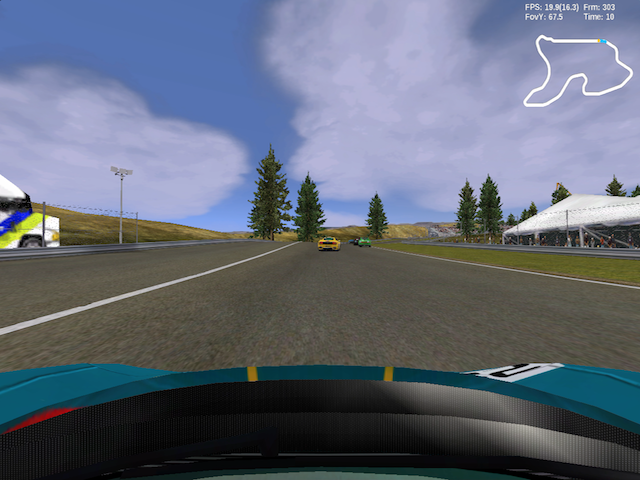Boxer96: (359, 238, 372, 249)
Cavallo360: (317, 237, 342, 252)
